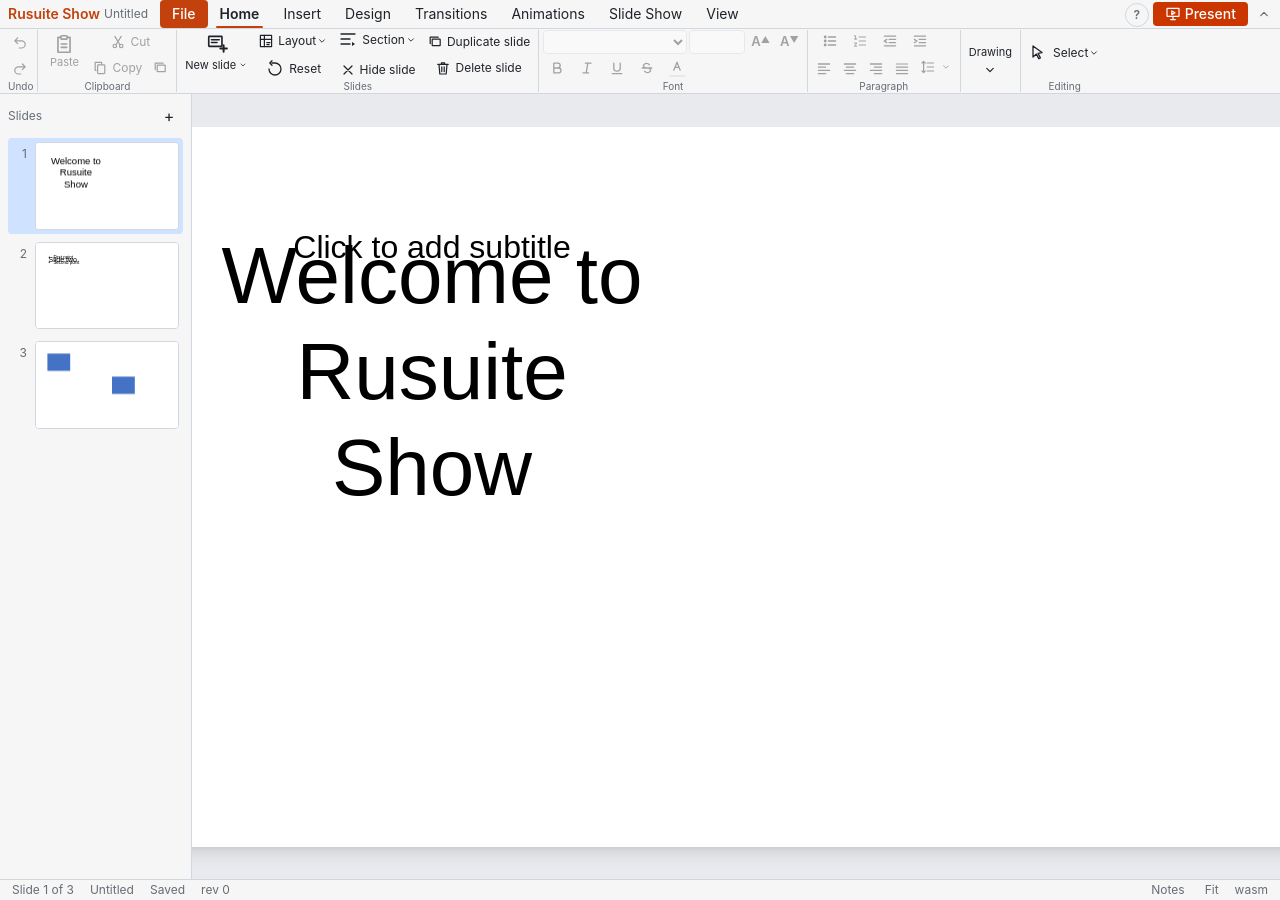
it: Show ribbon › View: zoom and present from the beginning
The width and height of the screenshot is (1280, 900).
Step 1. Click the button with test id "thumbnail" showing "2" → {"x": 96, "y": 285}, box [8,238,183,333]
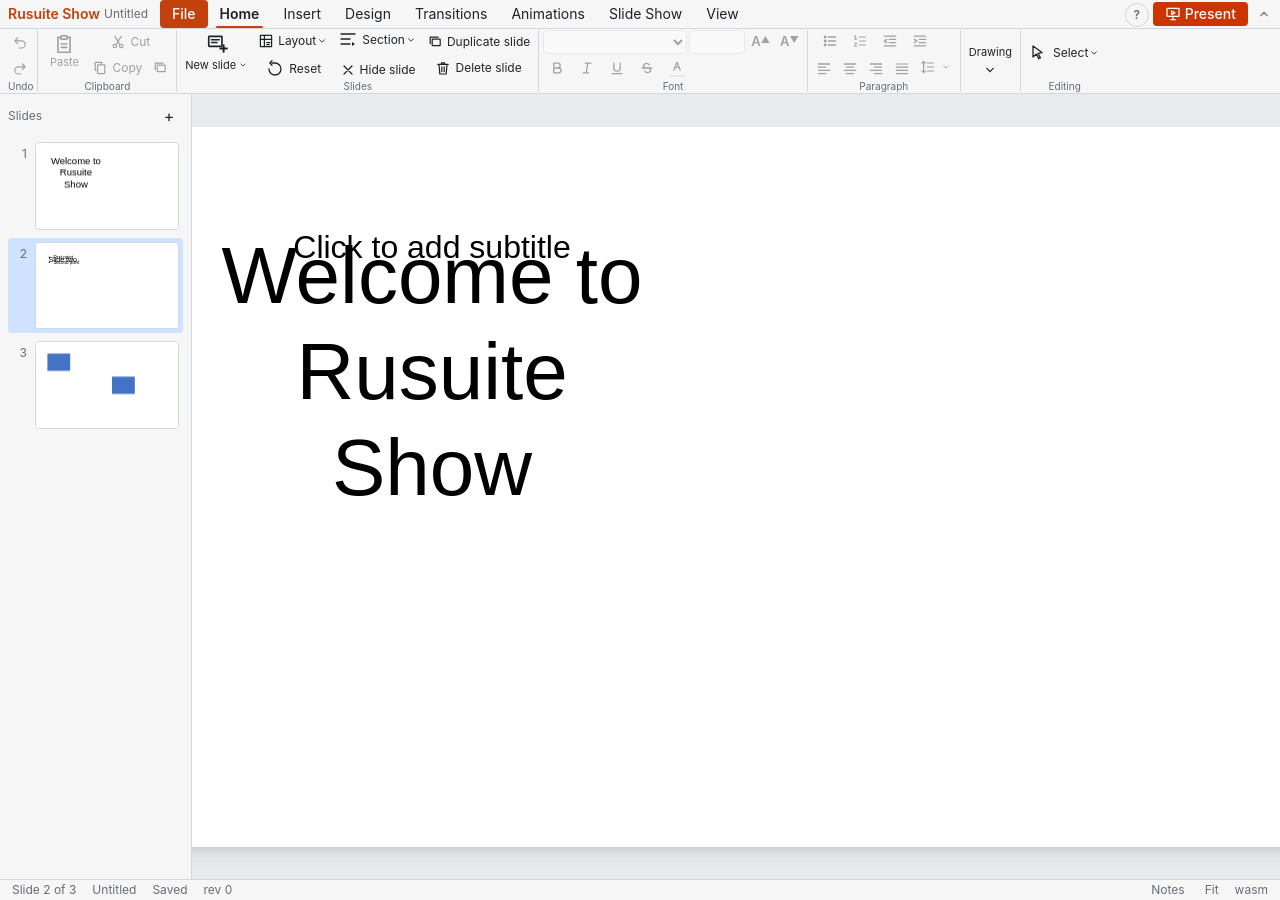
Step 2. Click the tab "View" → {"x": 722, "y": 14}, box [694,0,751,28]
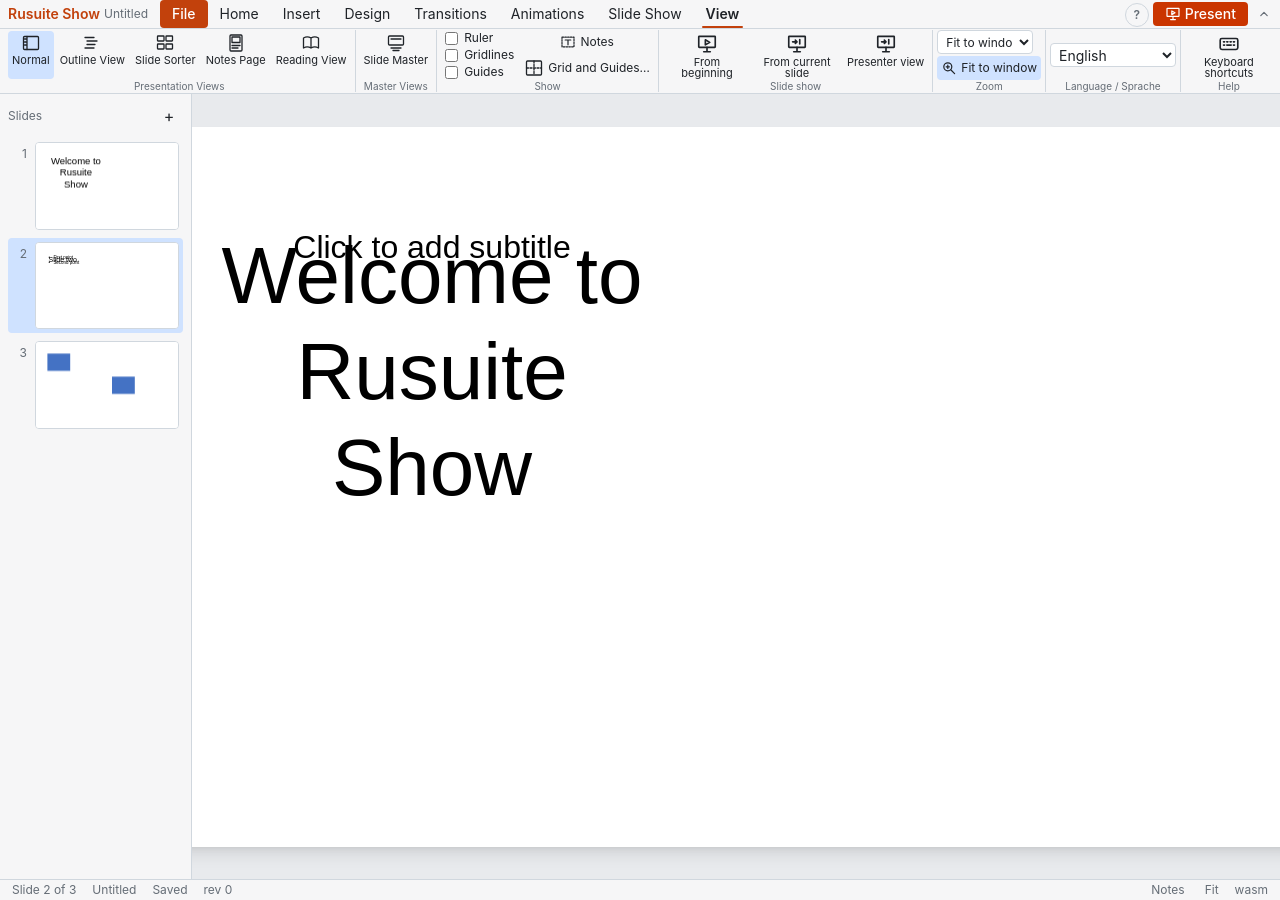
Step 3. Select "50 %" in the dropdown named "Zoom" → {"x": 985, "y": 42}, box [937,30,1033,54]
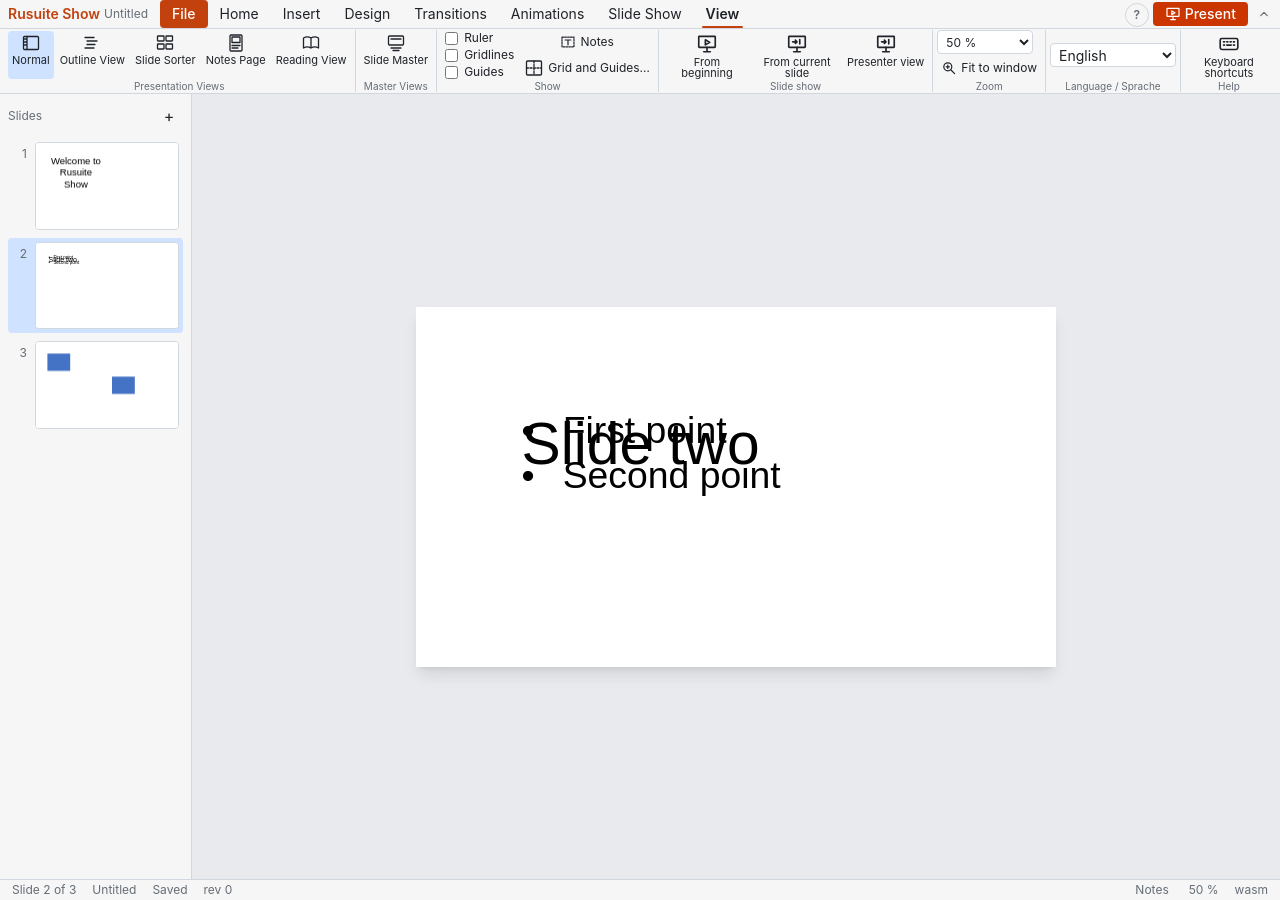
Expected: the text with test id "zoom" reads "50 %", [1189,882,1219,897]
Step 4. Click the button "Fit to window" → {"x": 989, "y": 68}, box [937,56,1041,80]
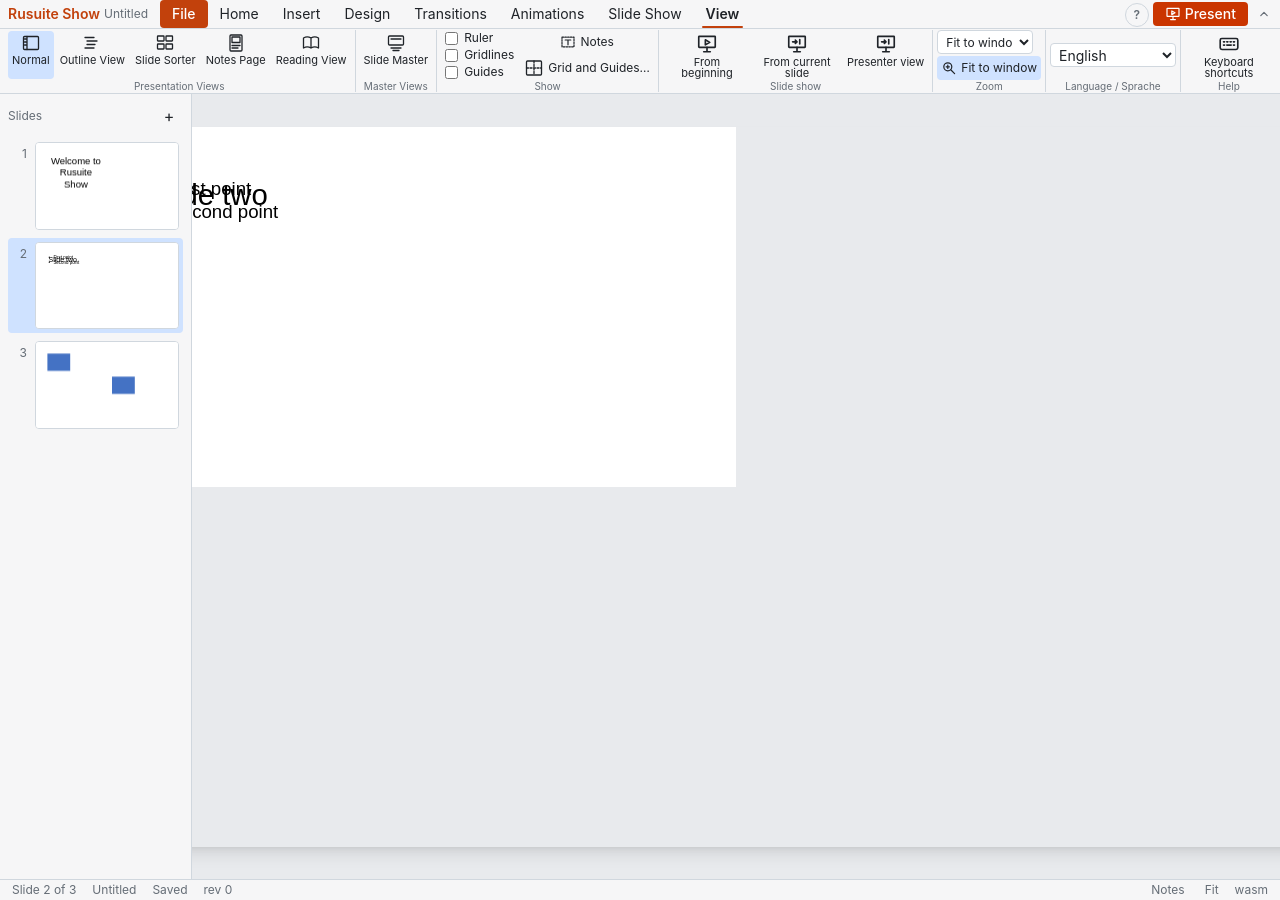
Expected: the text with test id "zoom" reads "Fit", [1205,882,1219,897]
Step 5. Click the button "From beginning" → {"x": 707, "y": 55}, box [663,31,751,79]
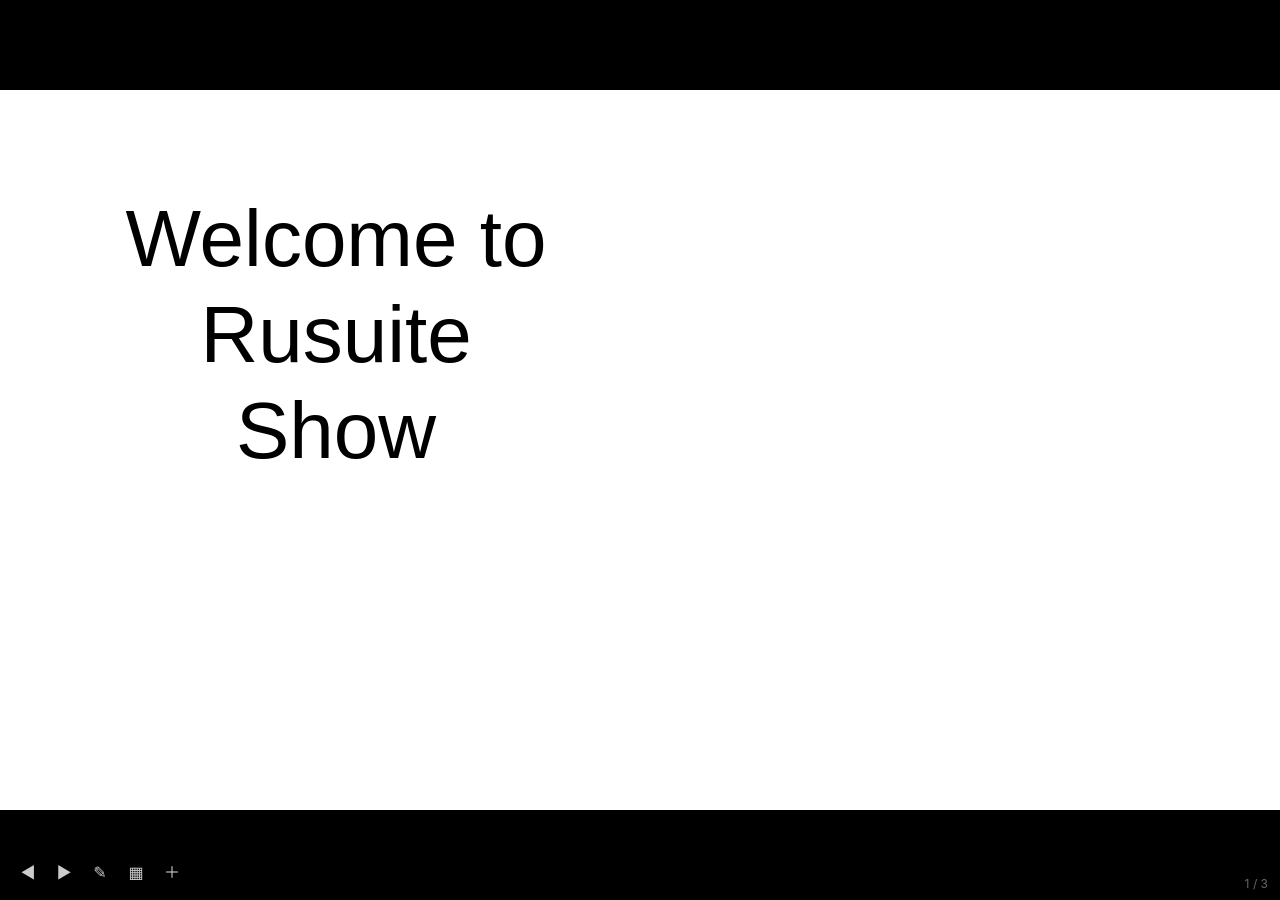
Expected: the text with test id "presenter-counter" reads "1 / 3", [1245,876,1268,892]
